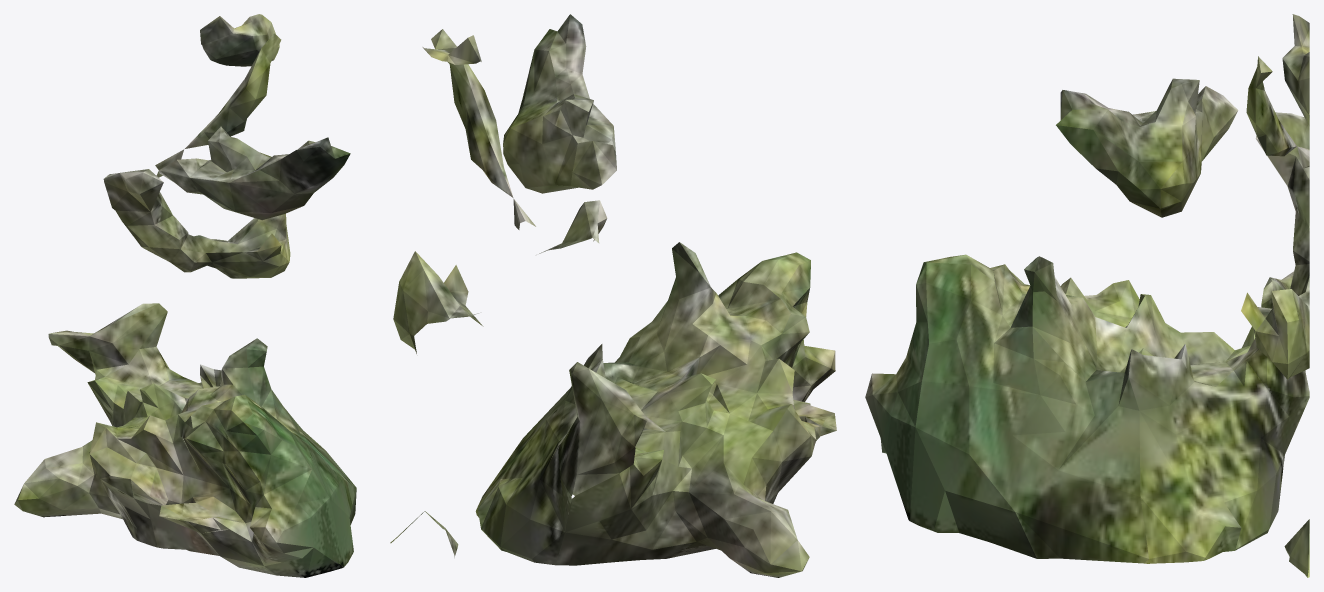
3 renders of one model, left to right at view 1: azimuth 30°, elevation 25°; view 2: azimuth 150°, elevation 25°; view 3: azimuth 270°, elevation 25°, orthographic. The views are drawn at different scales.
Size of the model in its own units: 3.19 by 4.25 by 3.25.
Materials: 2 (2 with a texture image).
